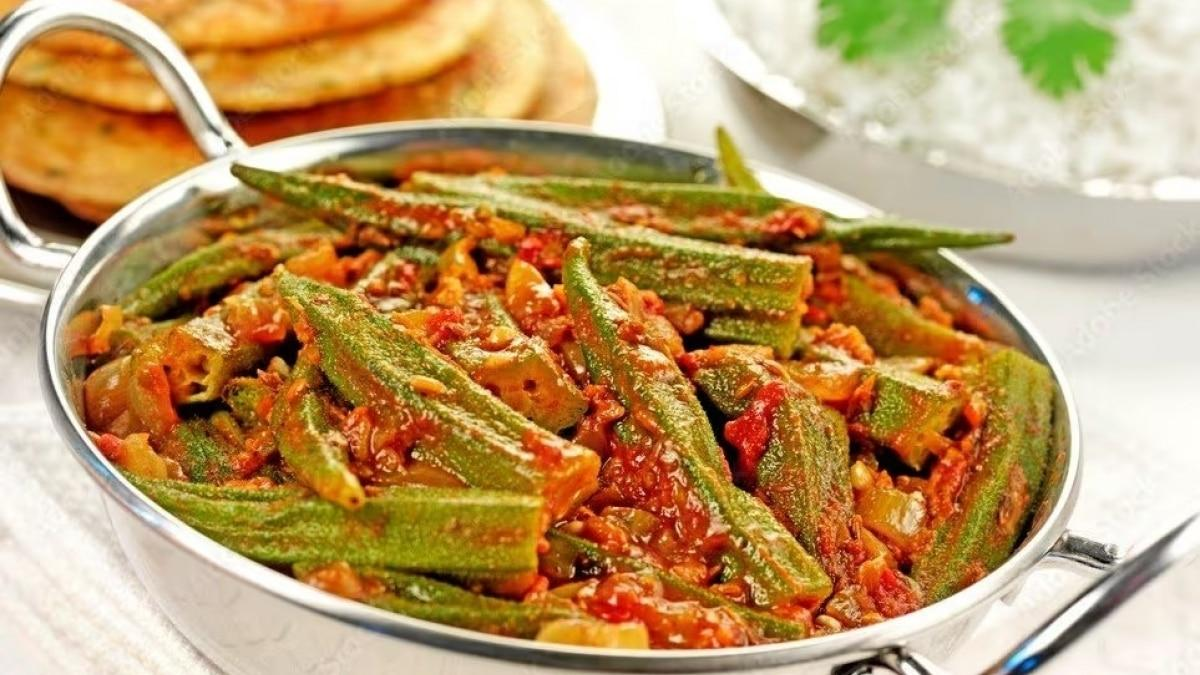bhindi: (107, 161, 1042, 608)
